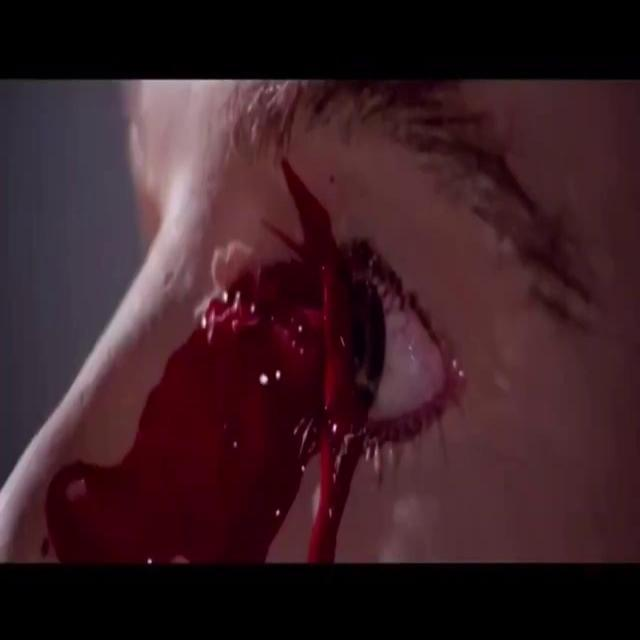flood: (71, 210, 396, 576)
